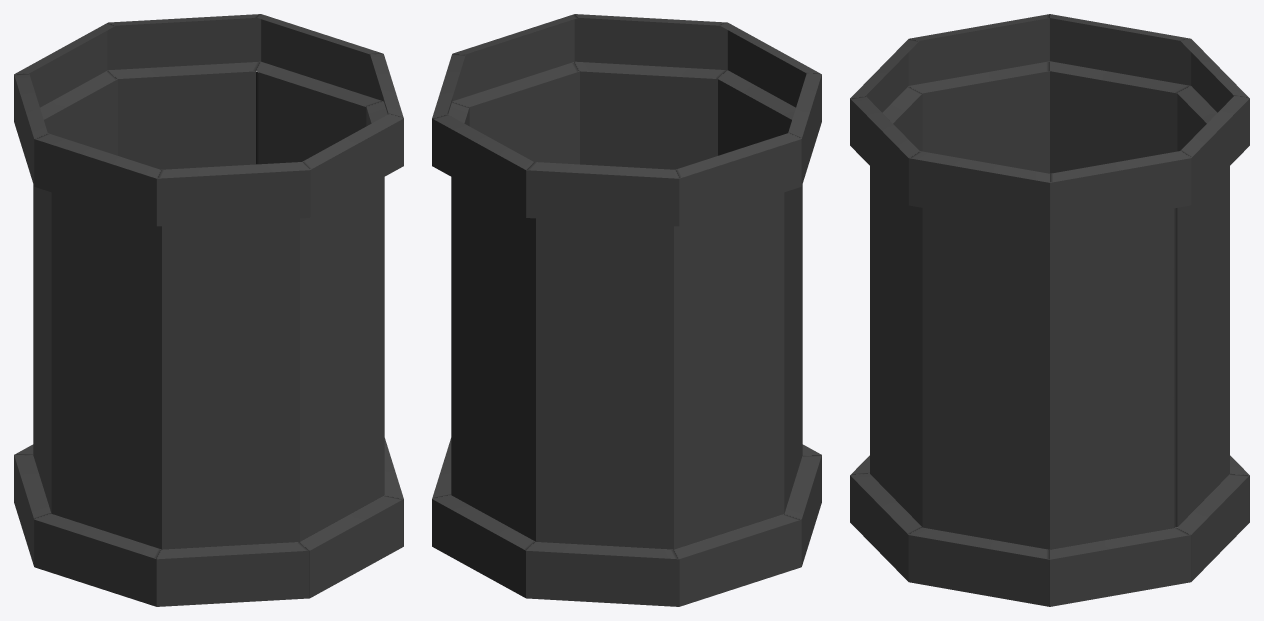
Rendered from Pipe 1 Textured.fbx.
The picture shows the model from 3 angles, left to right: view 1: azimuth 30°, elevation 25°; view 2: azimuth 150°, elevation 25°; view 3: azimuth 270°, elevation 25°; orthographic projection.
Parts seen in each view (by area): view 1: pCylinder1; view 2: pCylinder1; view 3: pCylinder1.
Part boxes in pixels (left/top/right/bottom): pCylinder1: left=14, top=14, right=403, bottom=606; pCylinder1: left=432, top=14, right=821, bottom=606; pCylinder1: left=850, top=14, right=1249, bottom=606.
Bounding box in the file's own units: 2.22 × 2.63 × 2.22.
1 material, 1 textured.
